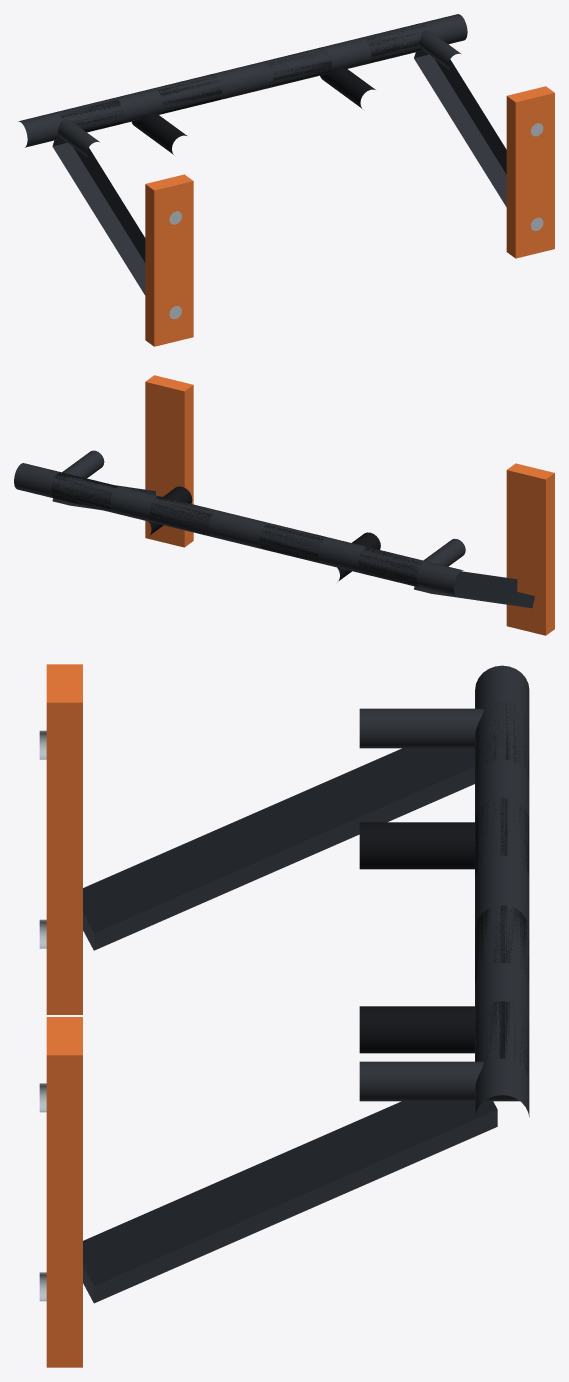
The model's file is anchor-pullup-bar.glb.
3 renders of one model, top to bottom at view 1: azimuth 30°, elevation 25°; view 2: azimuth 150°, elevation 25°; view 3: azimuth 270°, elevation 25°, orthographic. The views are drawn at different scales.
Visible parts, largest first — view 1: Graphite powder coat parts, Forgewell orange brackets parts, Textured black grips parts, Zinc mounting hardware parts; view 2: Graphite powder coat parts, Forgewell orange brackets parts, Textured black grips parts; view 3: Graphite powder coat parts, Forgewell orange brackets parts, Textured black grips parts, Zinc mounting hardware parts.
Part boxes in pixels (box(x1,y1,x2,y2)): Graphite powder coat parts: box(18, 14, 506, 295); Forgewell orange brackets parts: box(145, 86, 554, 346); Textured black grips parts: box(56, 23, 426, 154); Zinc mounting hardware parts: box(169, 123, 543, 319); Graphite powder coat parts: box(14, 450, 534, 608); Forgewell orange brackets parts: box(145, 375, 554, 635); Textured black grips parts: box(51, 472, 421, 586); Graphite powder coat parts: box(83, 665, 529, 1303); Forgewell orange brackets parts: box(46, 664, 82, 1367); Textured black grips parts: box(359, 702, 529, 1077); Zinc mounting hardware parts: box(39, 730, 46, 1301).
Bounding box in the file's own units: 1.12 × 0.38 × 0.54.
